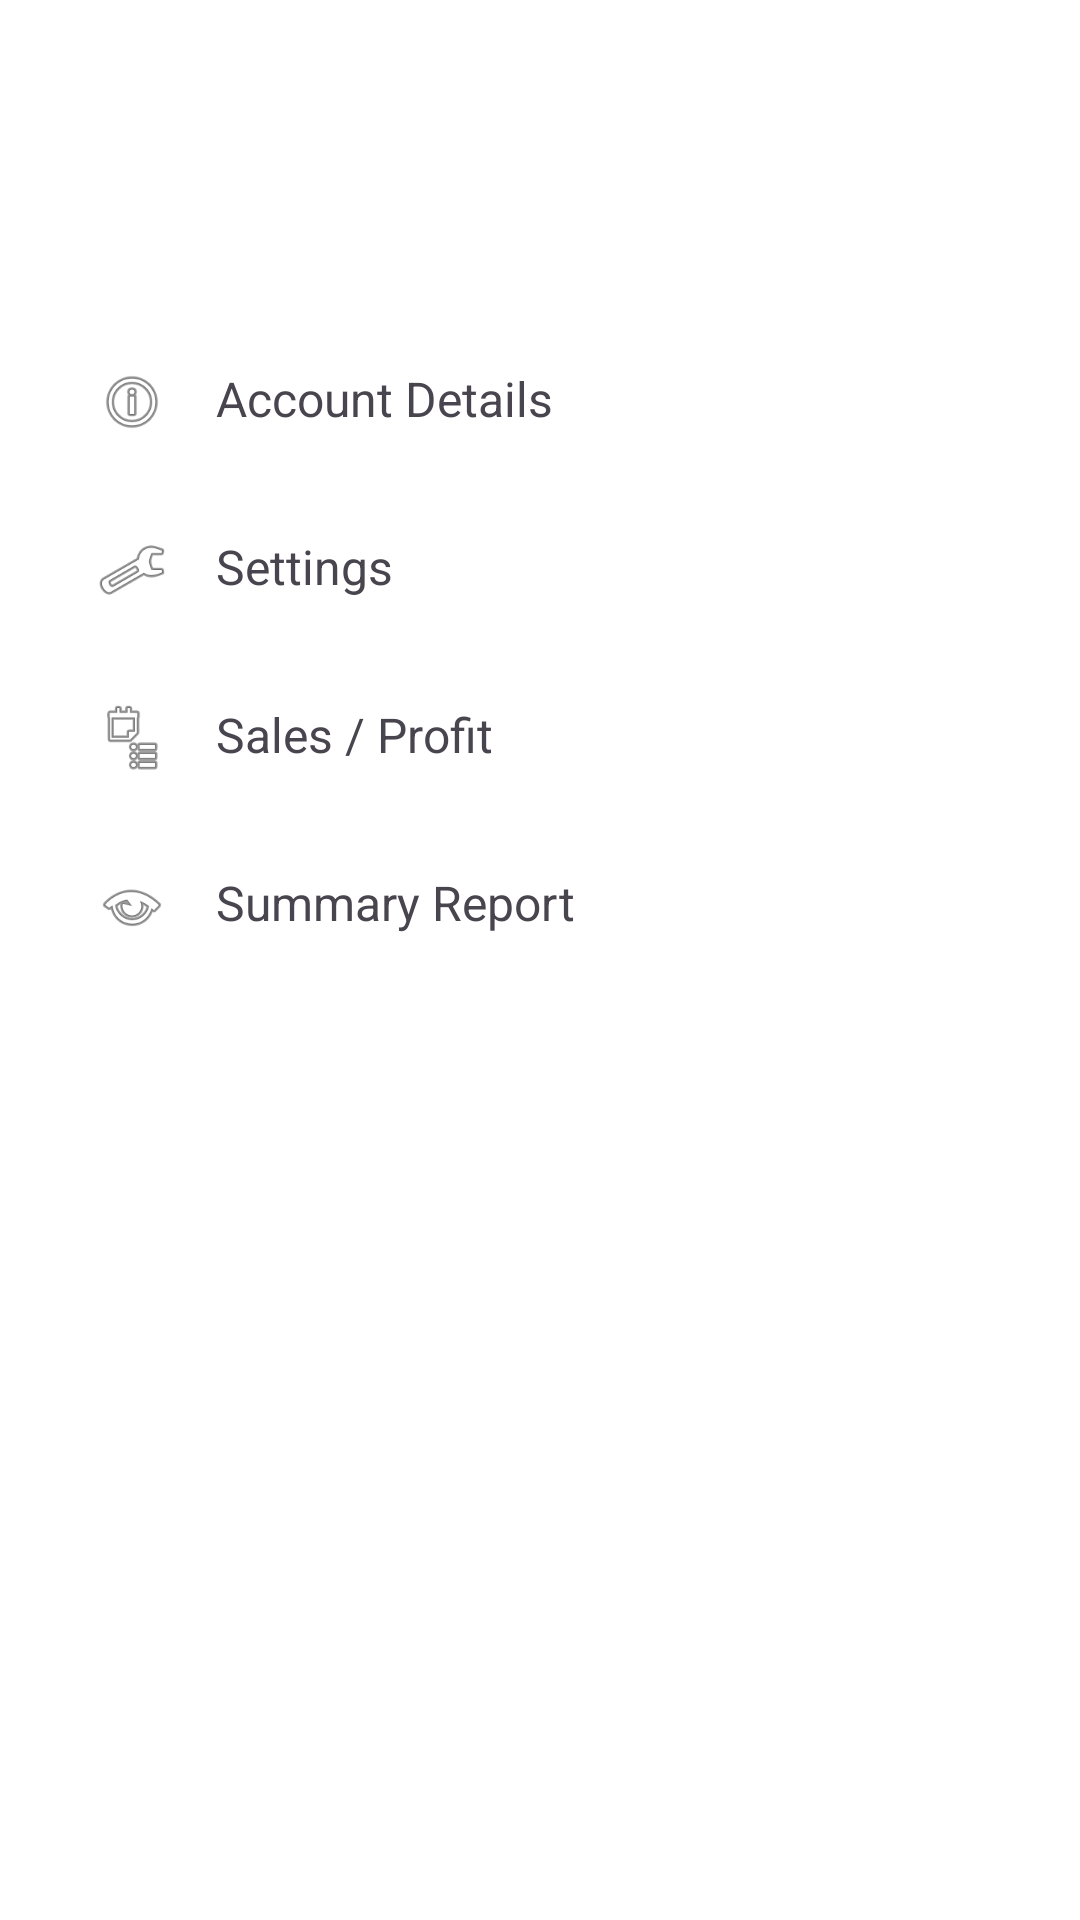

Icon click points for this 1080x1920 phone screenshot, format point (x, y):
agenda: point (132, 738)
info details: point (132, 402)
preferences: point (131, 570)
view: point (132, 907)
